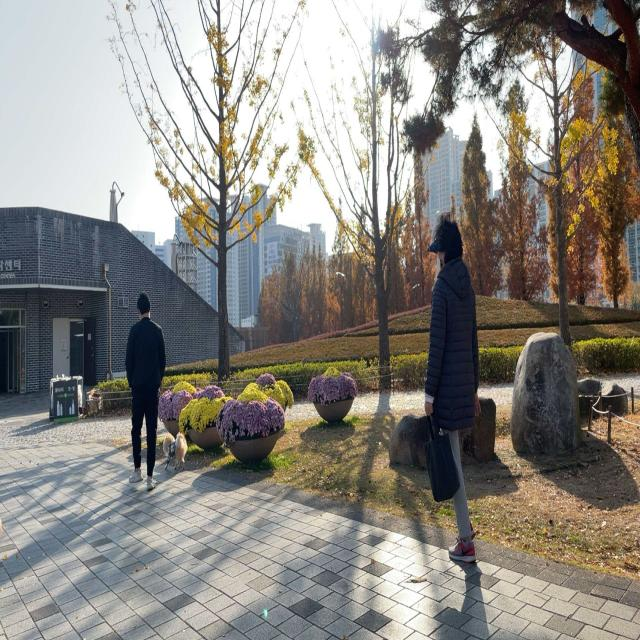Leashed_Dog: (150, 380, 188, 472)
